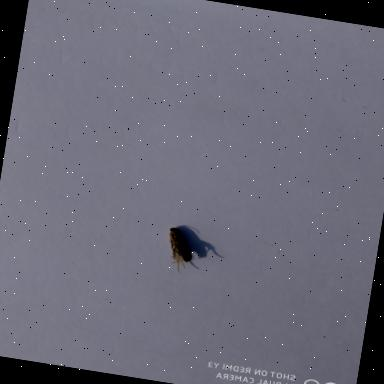pbw: (160, 222, 201, 268)
